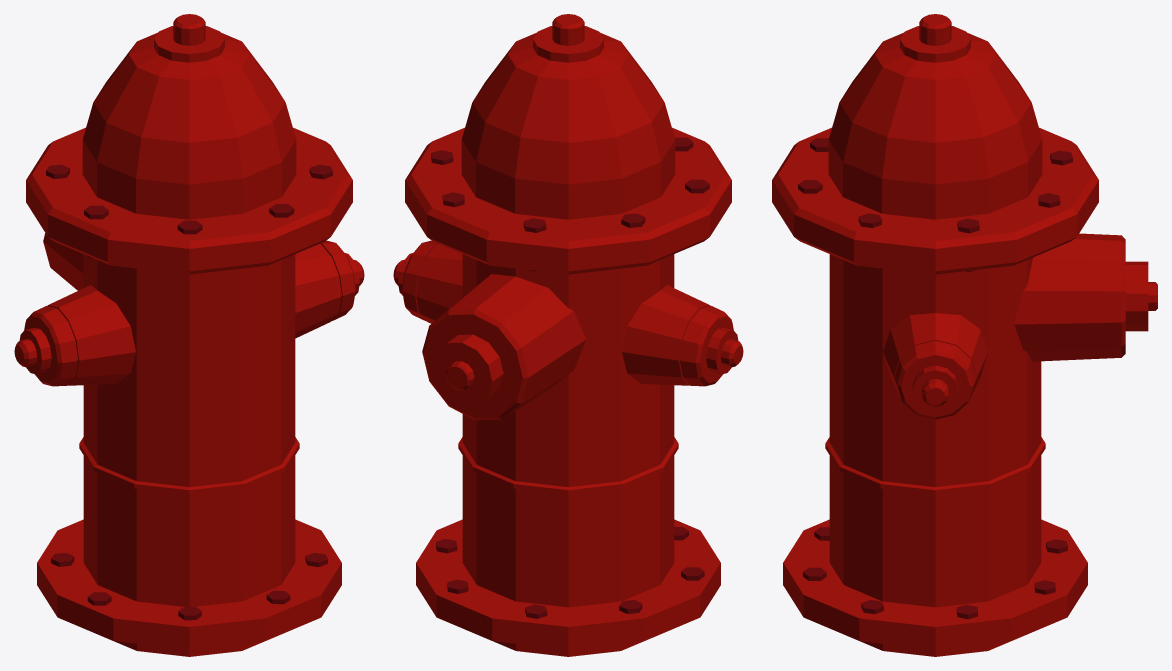
File: FireHydrant.fbx
3 views of the same model, side by side, from view 1: azimuth 30°, elevation 25°; view 2: azimuth 150°, elevation 25°; view 3: azimuth 270°, elevation 25° (orthographic).
Parts seen in each view (by area): view 1: Fire Hydrant; view 2: Fire Hydrant; view 3: Fire Hydrant.
Boxes of the visible parts, left/top/right/bottom form: Fire Hydrant: left=14, top=14, right=364, bottom=656; Fire Hydrant: left=393, top=14, right=743, bottom=656; Fire Hydrant: left=772, top=14, right=1157, bottom=656.
Bounding box in the file's own units: 77.31 × 129 × 75.88.
